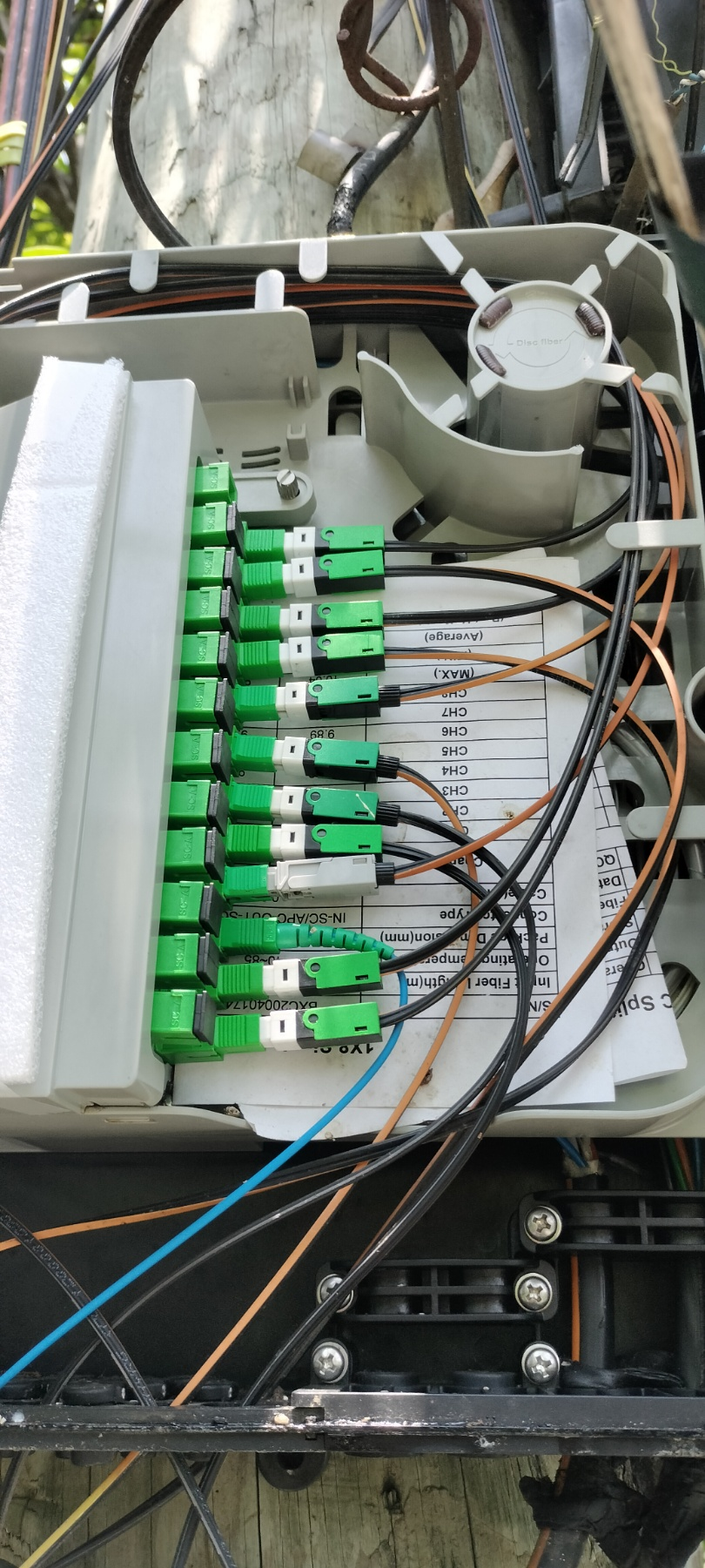no dust cap: (229, 464, 238, 510)
occupied: (223, 921, 405, 970), (237, 735, 409, 786), (213, 998, 392, 1046), (224, 947, 387, 999), (230, 786, 412, 827), (226, 855, 409, 892), (239, 676, 415, 713), (239, 632, 400, 671), (243, 598, 404, 634), (240, 553, 403, 587), (229, 824, 399, 856), (246, 523, 398, 554)
vacant: (215, 725, 232, 783), (198, 988, 215, 1046), (205, 879, 222, 937), (211, 776, 228, 834), (221, 629, 238, 686), (217, 676, 233, 734), (223, 584, 239, 642), (225, 544, 241, 602), (228, 499, 244, 557), (202, 925, 218, 983), (208, 821, 224, 879)
